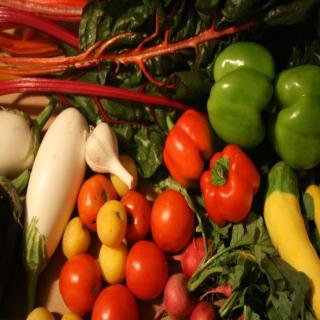tomato: (124, 240, 169, 300), (60, 252, 101, 317), (151, 190, 192, 254), (77, 174, 116, 231), (92, 284, 139, 320), (120, 191, 152, 242), (96, 200, 126, 246), (98, 244, 130, 285)
